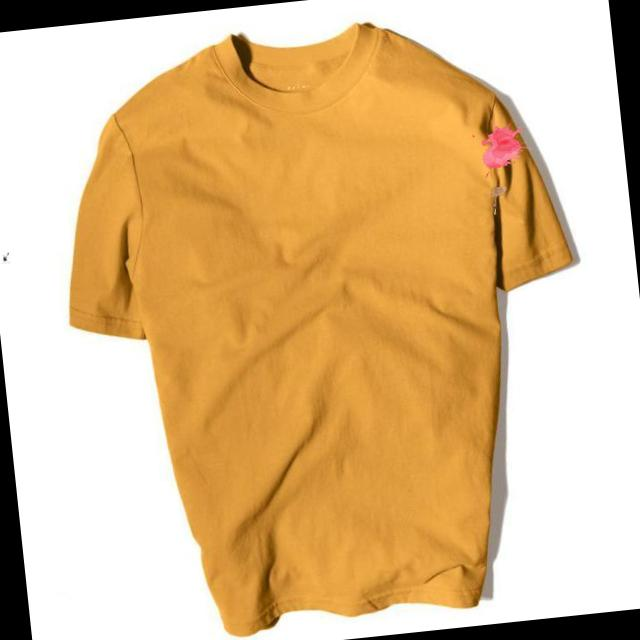stain: (469, 117, 532, 176)
